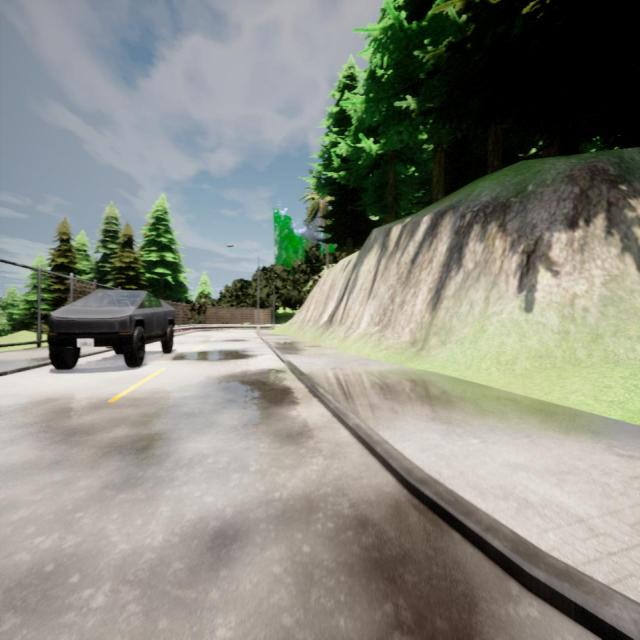Vehicle: (48, 289, 174, 369)
